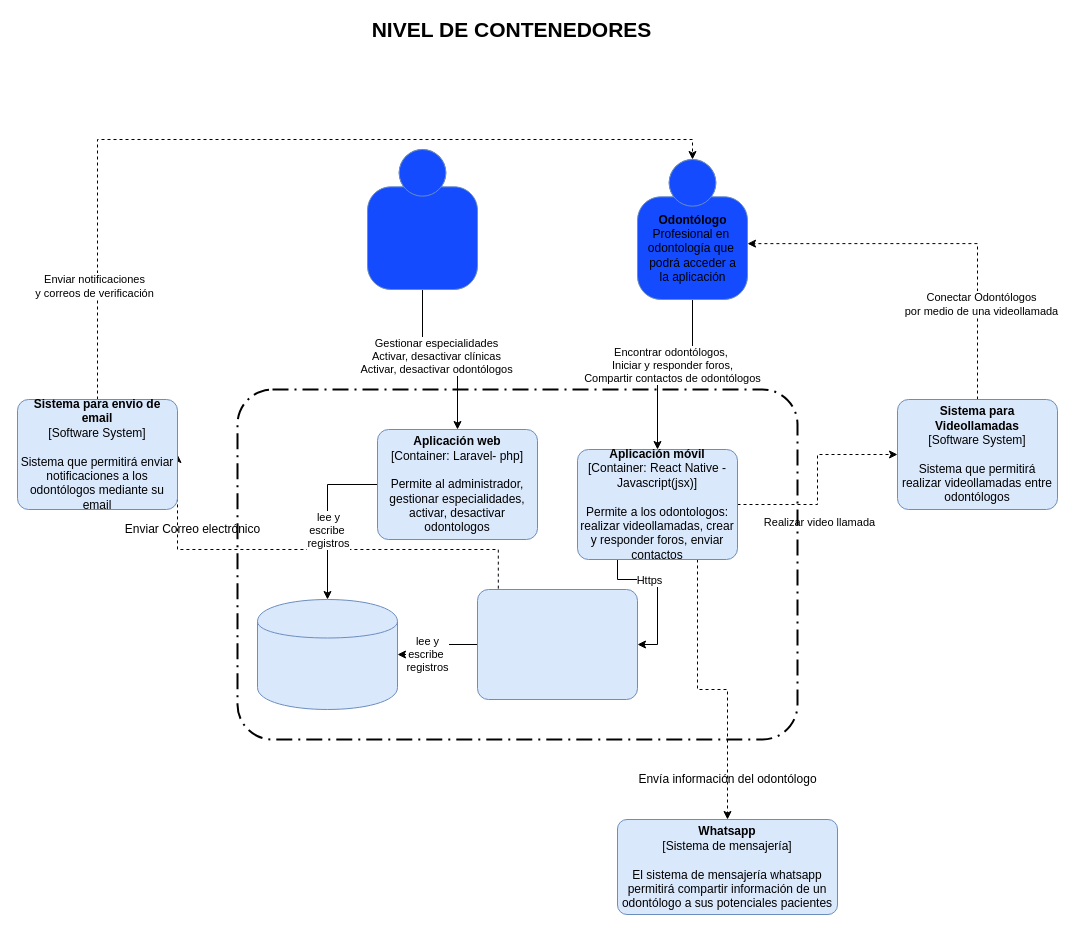
Some shapes in this 1075 by 932 pixel diagram are drawn without their labels. Each missing label, with the centre of its shape:
"Administrador Persona designada a gestionar el sistema." belongs at [422,219].
"API [Container: Laravel-php ] Provee servicios a la aplicación" belongs at [557,644].
"Database [Container: mySQL] Almacenamiento de los usuarios de la aplicación" belongs at [327,654].
